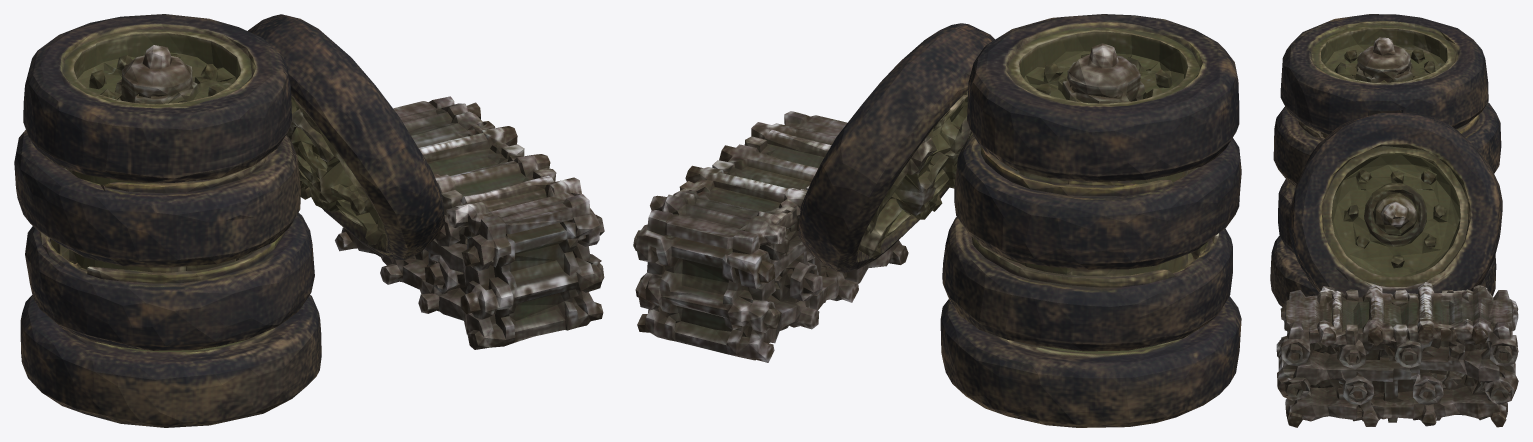
File: wheels.glb
The picture shows the model from 3 angles, left to right: view 1: azimuth 30°, elevation 25°; view 2: azimuth 150°, elevation 25°; view 3: azimuth 270°, elevation 25°; orthographic projection. The views are drawn at different scales.
Parts seen in each view (by area): view 1: geometry_0; view 2: geometry_0; view 3: geometry_0.
Part boxes in pixels (left/top/right/bottom): geometry_0: left=14, top=14, right=604, bottom=427; geometry_0: left=633, top=14, right=1241, bottom=427; geometry_0: left=1270, top=14, right=1518, bottom=427.
Bounding box in the file's own units: 1 × 0.6294 × 0.5596.
1 material, 1 textured.
